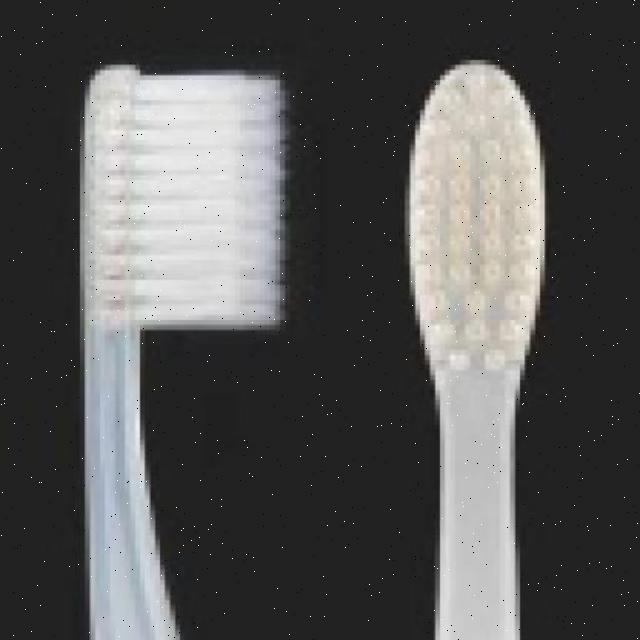toothbrush: (65, 50, 285, 634), (390, 40, 586, 636)
